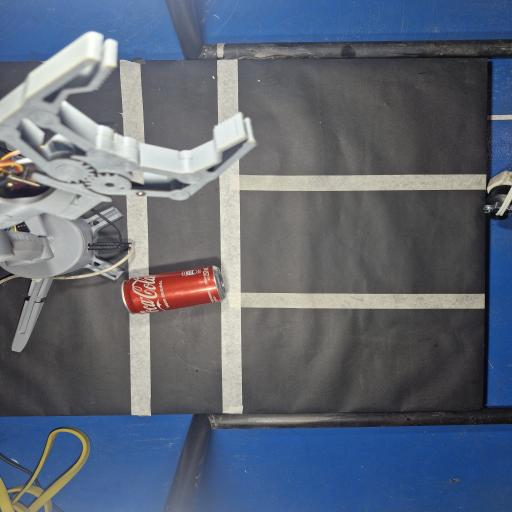lata: (122, 266, 225, 314)
